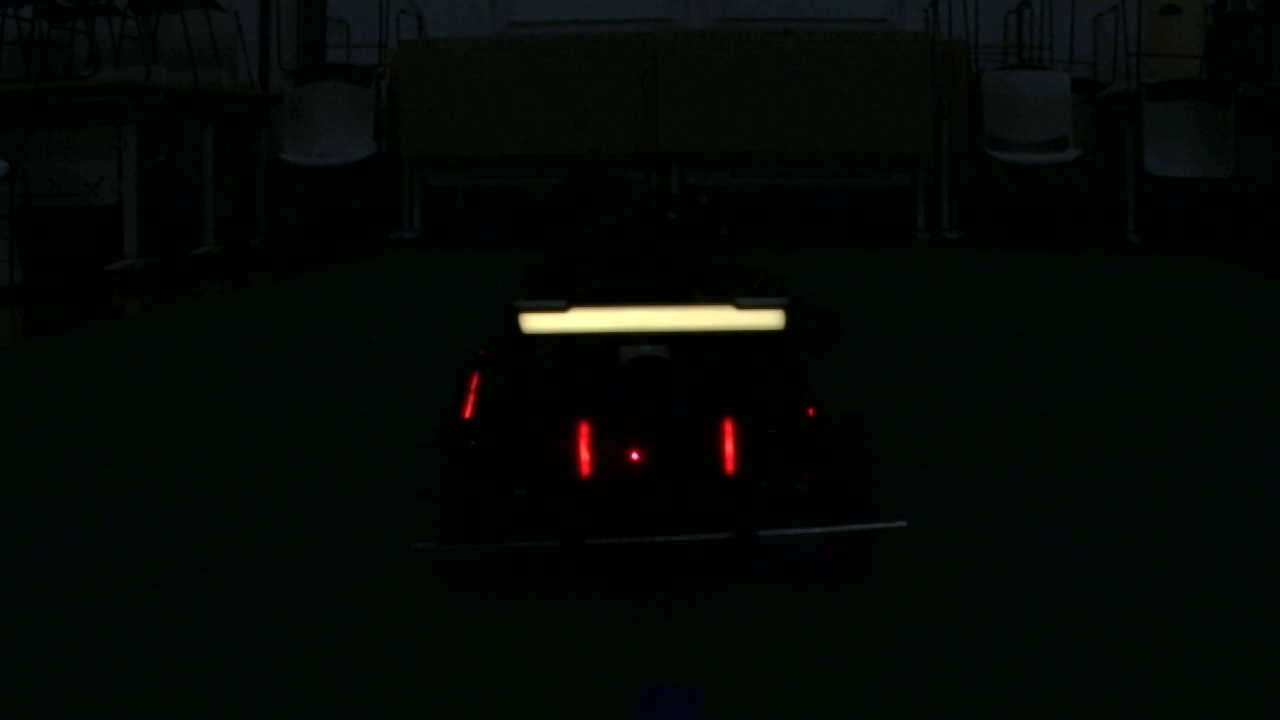lamp: (572, 414, 596, 478), (720, 416, 737, 479), (464, 366, 479, 421)
notpair1: (462, 368, 595, 476)
pair1: (574, 416, 739, 479)
